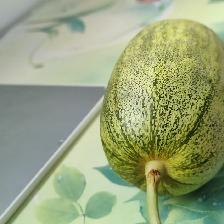gua: (121, 30, 214, 195)
